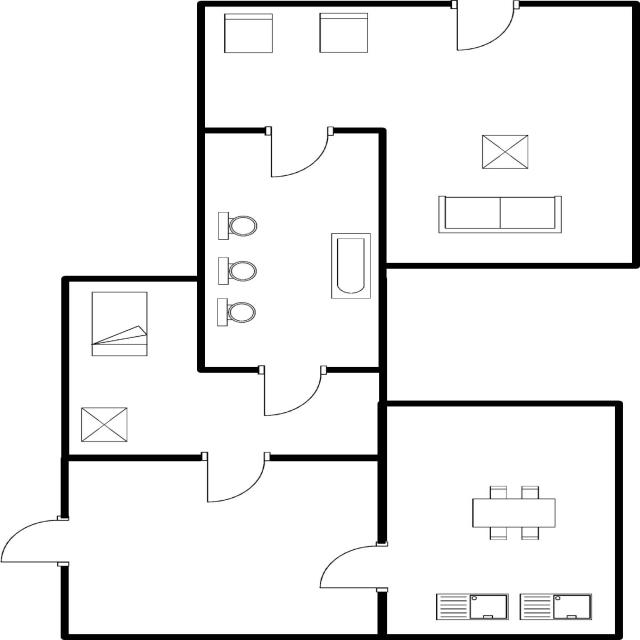bed: (86, 287, 151, 358)
coffee_table: (475, 131, 535, 172), (75, 404, 133, 445)
dining_table: (466, 482, 561, 544)
large_sink: (210, 207, 262, 245), (210, 295, 263, 331), (213, 253, 260, 290)
large_sofa: (431, 191, 569, 238)
sink: (430, 588, 513, 626), (516, 590, 597, 625)
small_sofa: (219, 9, 279, 57), (315, 9, 372, 58)
tub: (326, 228, 376, 302)
